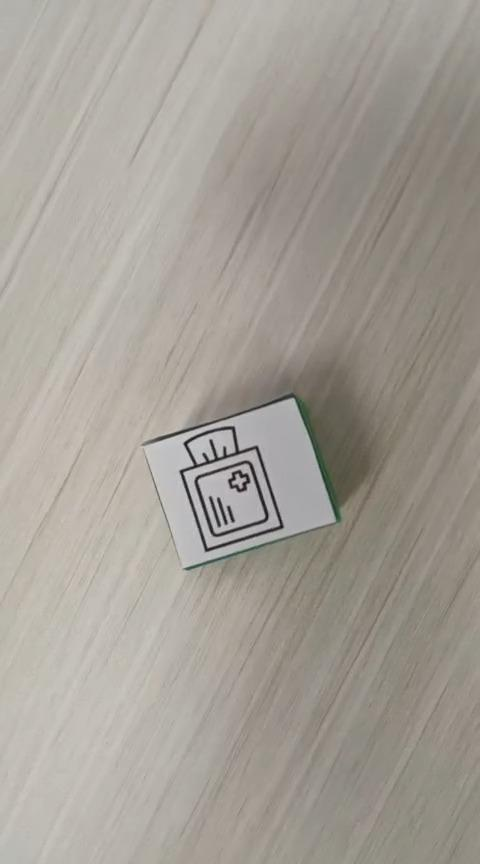Gauze: (139, 390, 340, 570)
